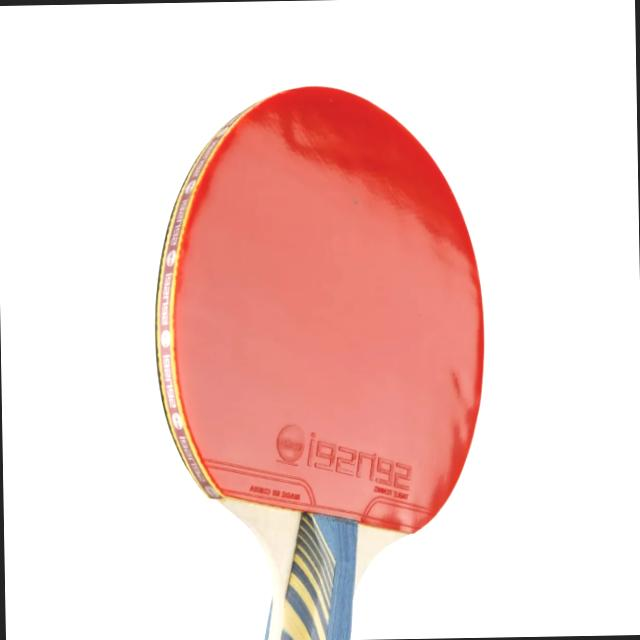TT Racket: (88, 31, 566, 626)
